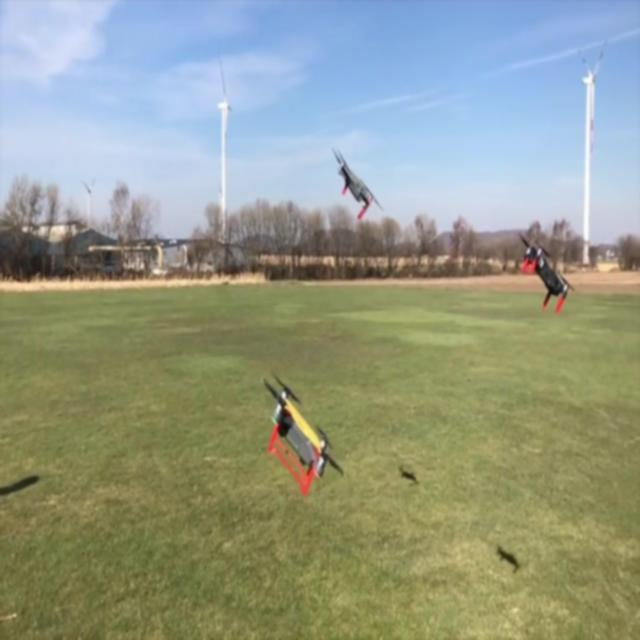UAV: (262, 372, 344, 496), (517, 232, 575, 314), (331, 147, 383, 220)
